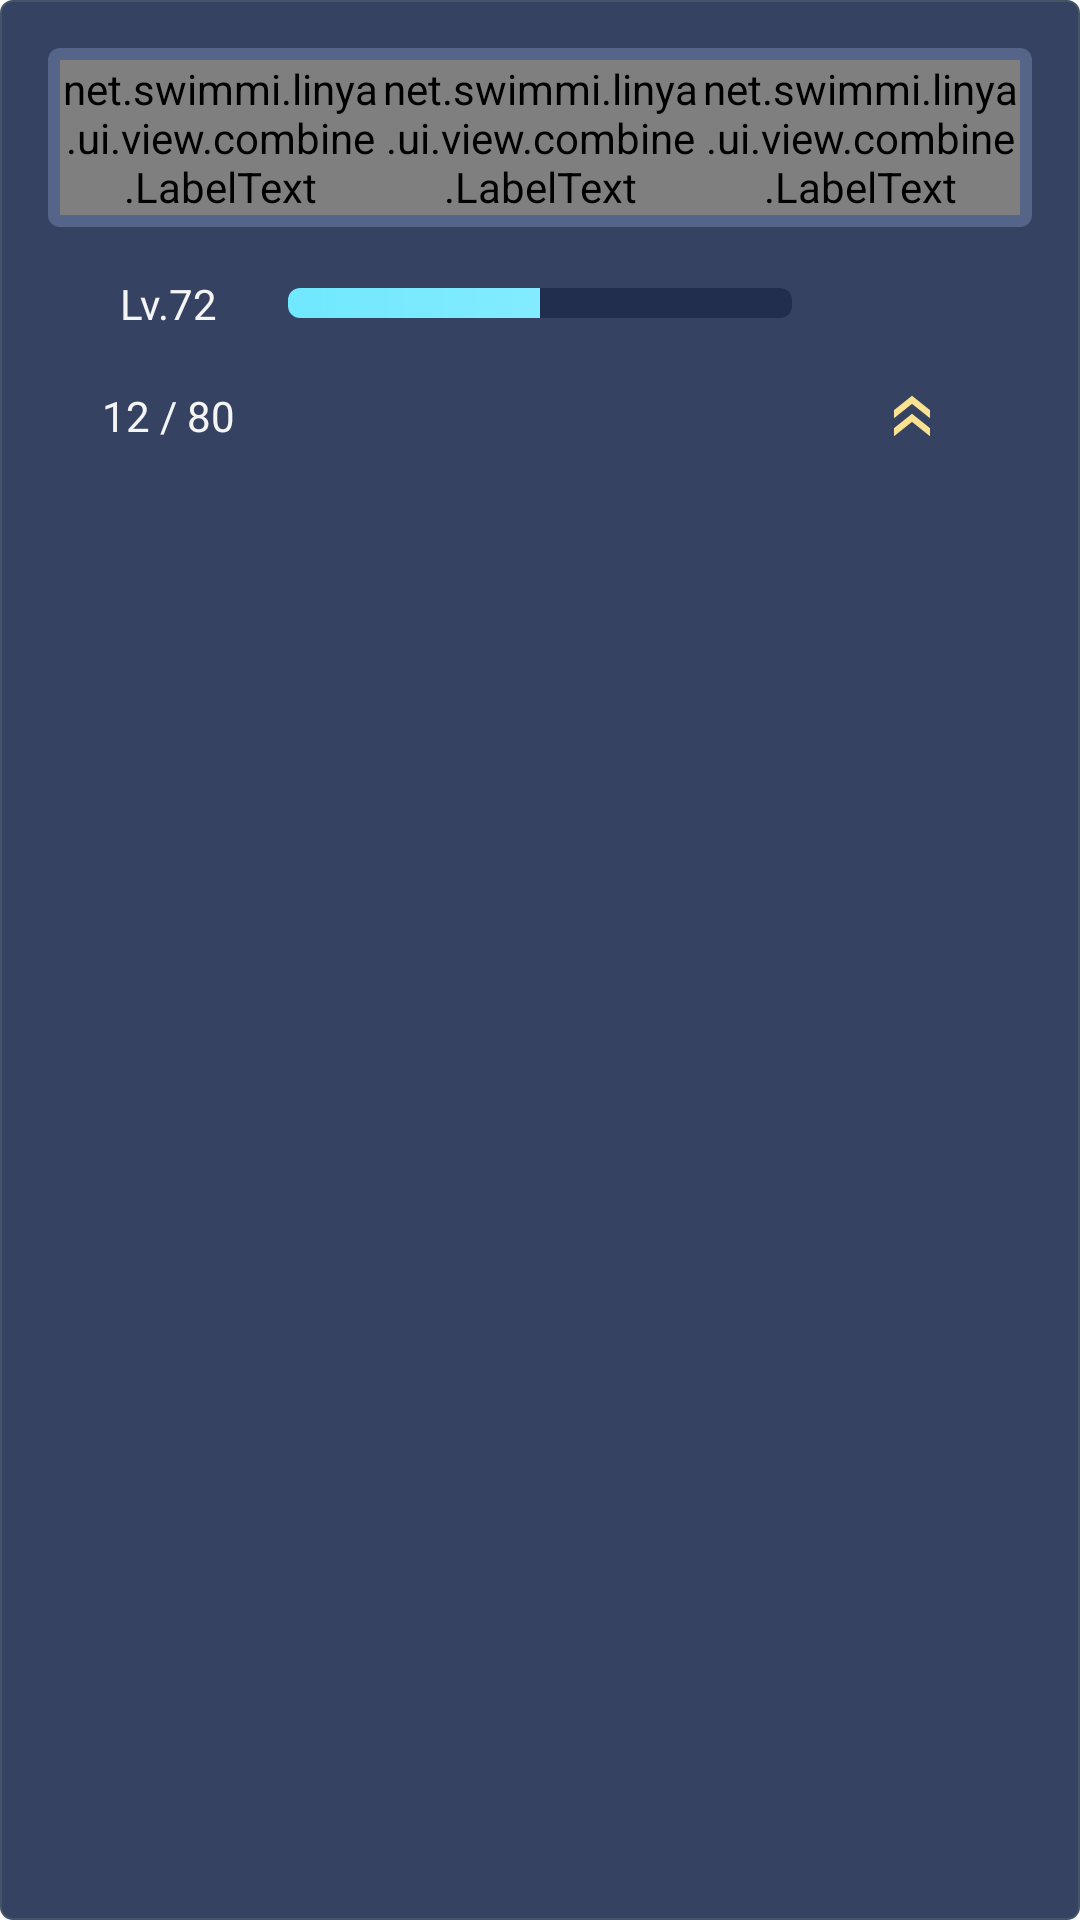

Locate icon controls on the screen. Image size 1080*1920, boxes as (x1, y1, x2, y2).
upgrade: (894, 396, 930, 436)
